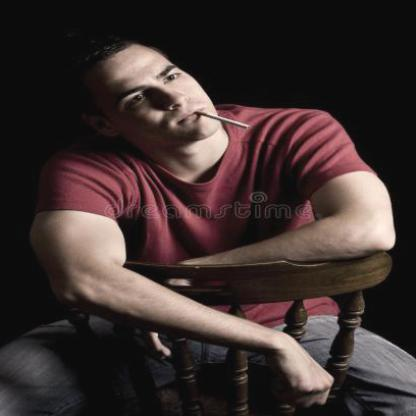cigarette: (197, 112, 252, 130)
person: (27, 36, 398, 416)
